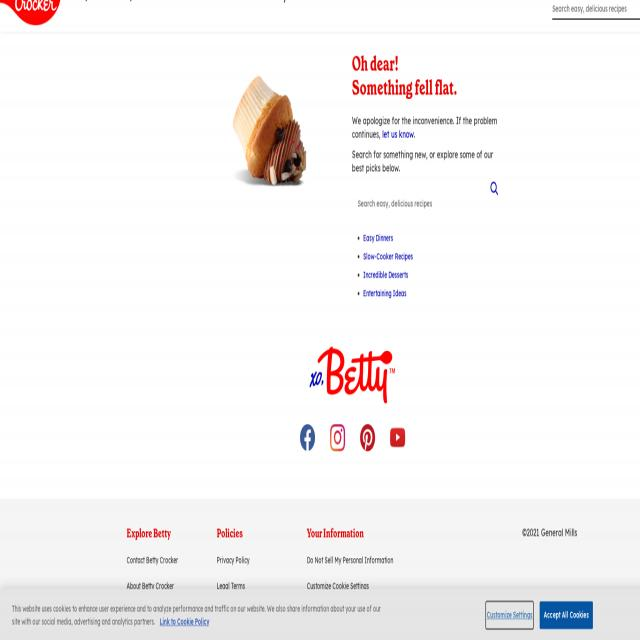button: (202, 52, 336, 214), (0, 0, 61, 28), (539, 602, 593, 629), (486, 602, 534, 628), (328, 424, 347, 458), (358, 424, 377, 458), (388, 424, 407, 458), (298, 424, 316, 451), (488, 178, 502, 198)
field: (352, 188, 502, 219), (552, 0, 640, 19)
